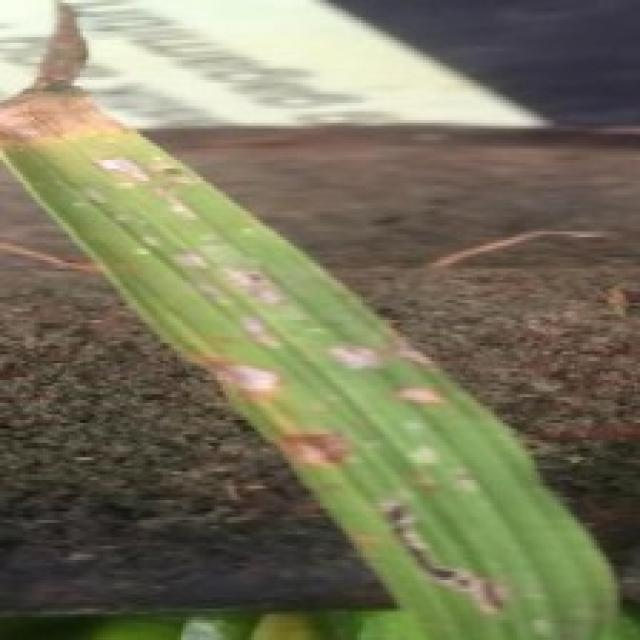Rice___Rice_Blast: (0, 75, 637, 637)
